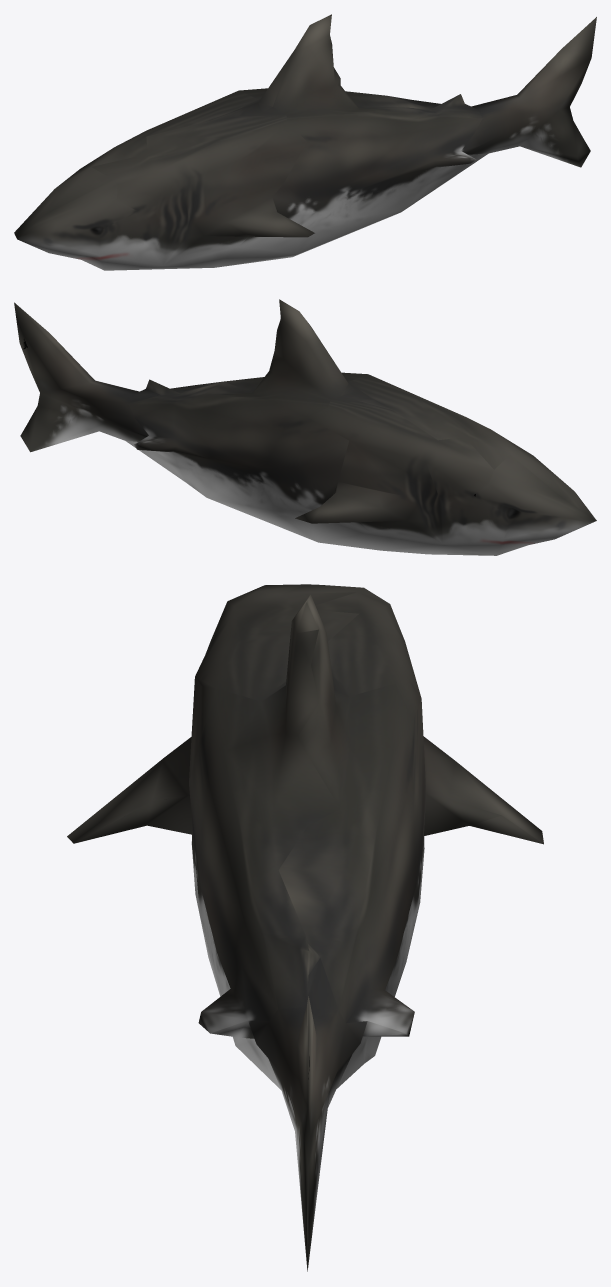
File: lowpolyshark.fbx
3 renders of one model, top to bottom at view 1: azimuth 30°, elevation 25°; view 2: azimuth 150°, elevation 25°; view 3: azimuth 270°, elevation 25°, orthographic. The views are drawn at different scales.
Parts seen in each view (by area): view 1: shark.003; view 2: shark.003; view 3: shark.003.
Boxes of the visible parts, box(x1,y1,x2,y2) form: shark.003: box(14, 14, 596, 270); shark.003: box(14, 299, 596, 555); shark.003: box(67, 584, 543, 1271).
Size of the model in its own units: 821 by 289 by 292.
1 material, 1 textured.
